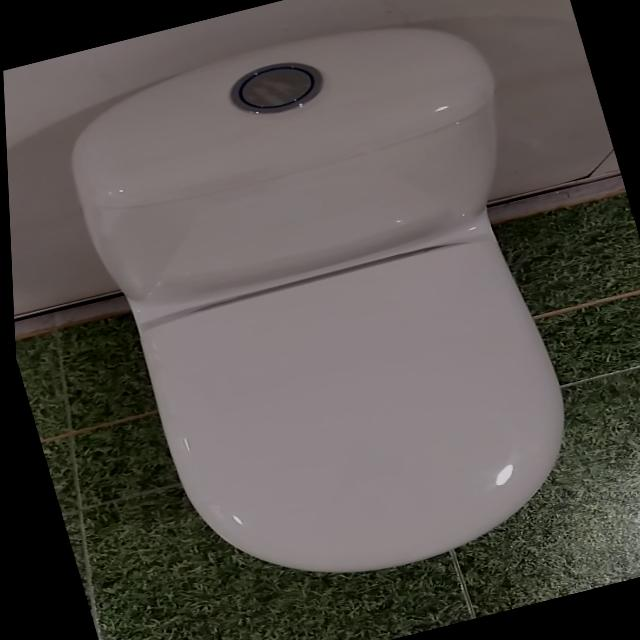toilet: (43, 0, 621, 616)
